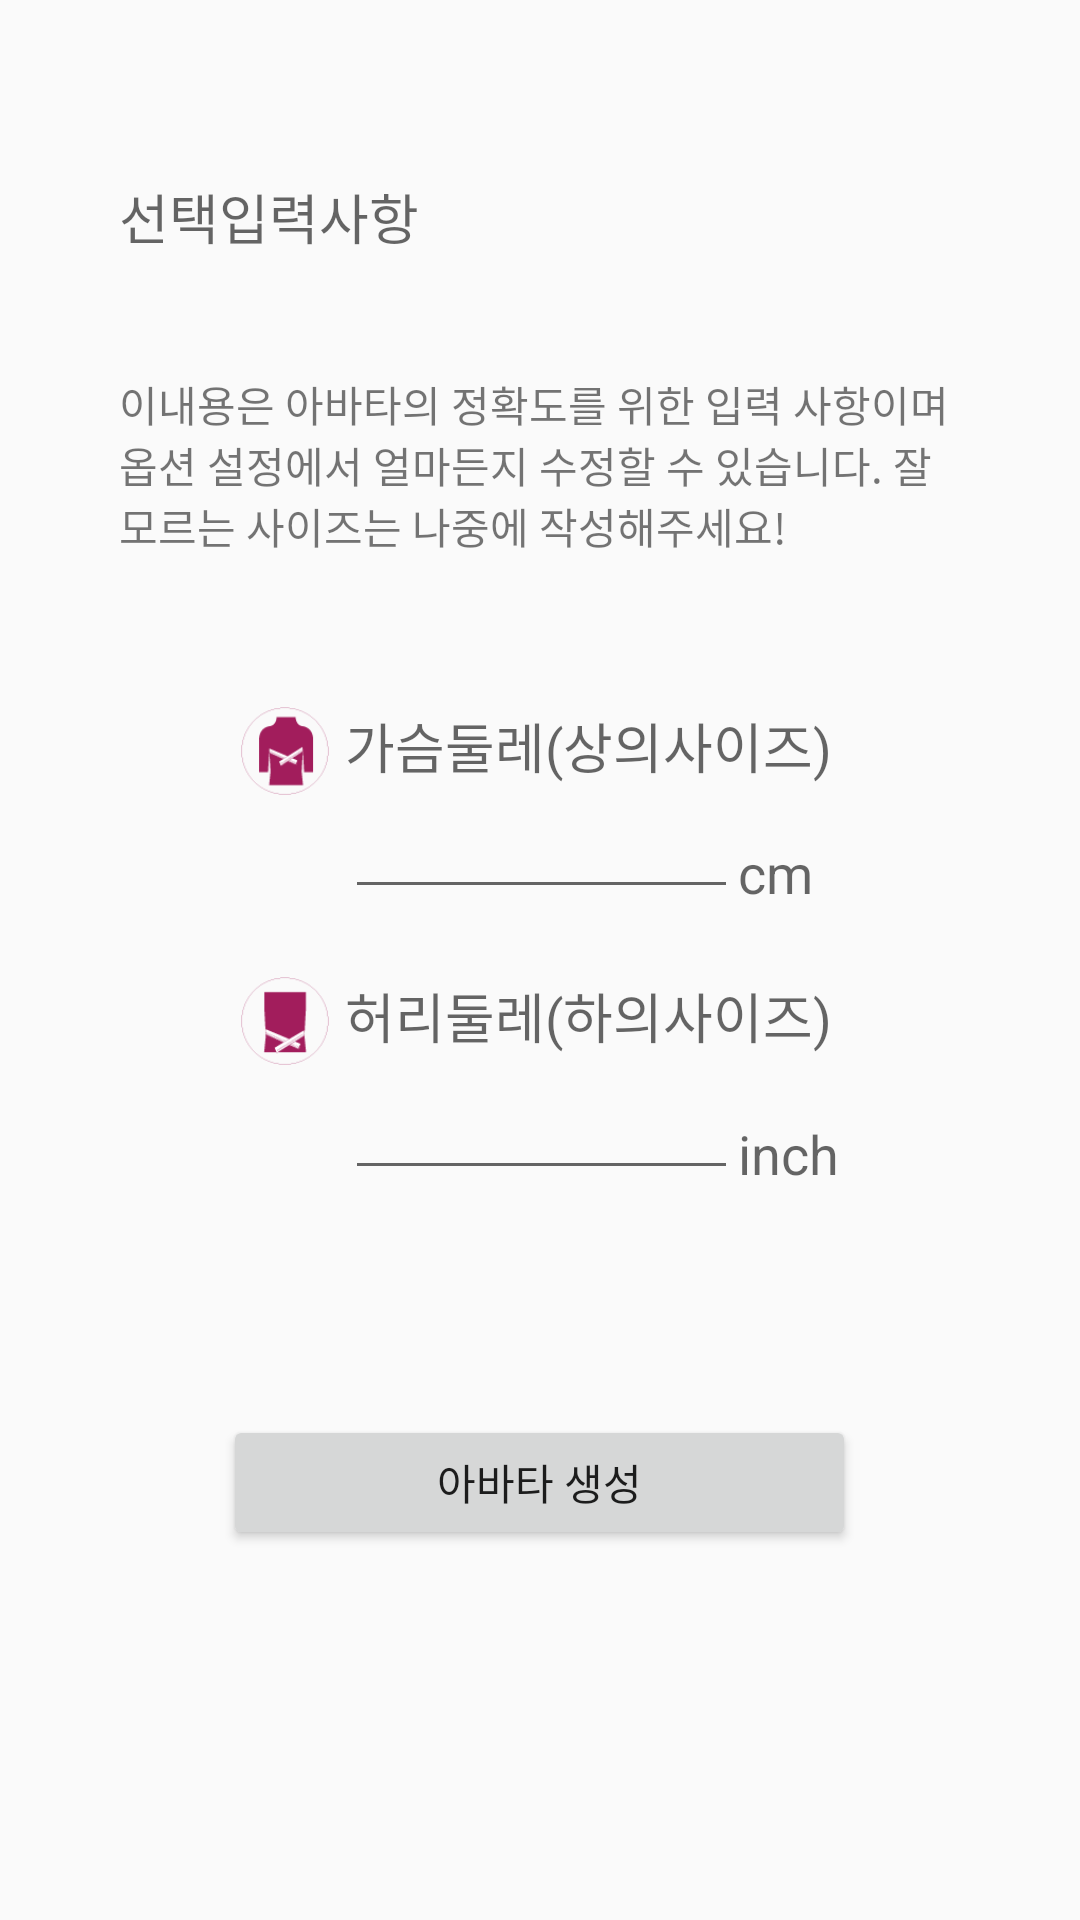

Where icons sit on this 1080 x 1920 app screen, as [x1=x1, y1=y1, x2=x2, y2=y2]:
signup male bottom: [x1=241, y1=977, x2=329, y2=1065]
signup male top: [x1=241, y1=707, x2=329, y2=795]
